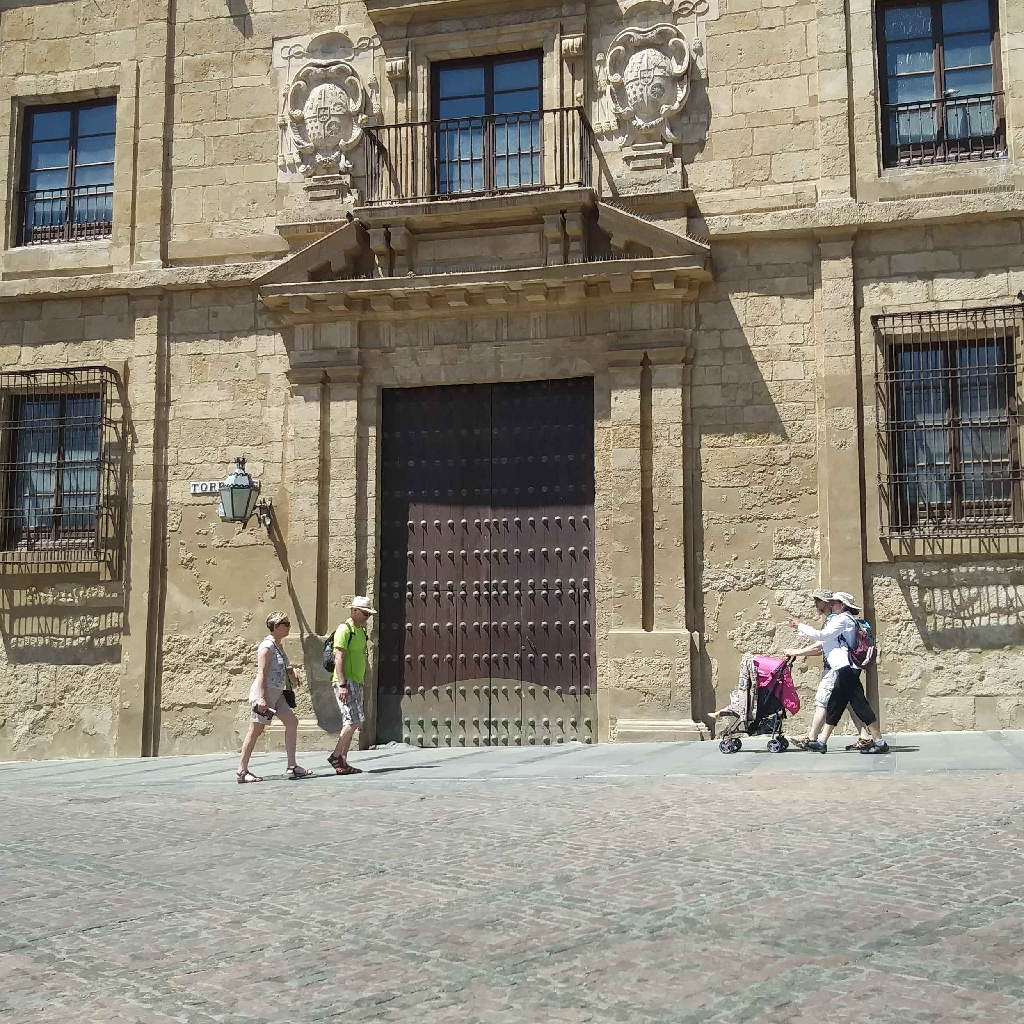fronton-partido: (224, 183, 704, 304)
vano-adintelado: (334, 333, 649, 750), (402, 10, 559, 196), (861, 1, 1017, 187), (2, 65, 147, 254)
